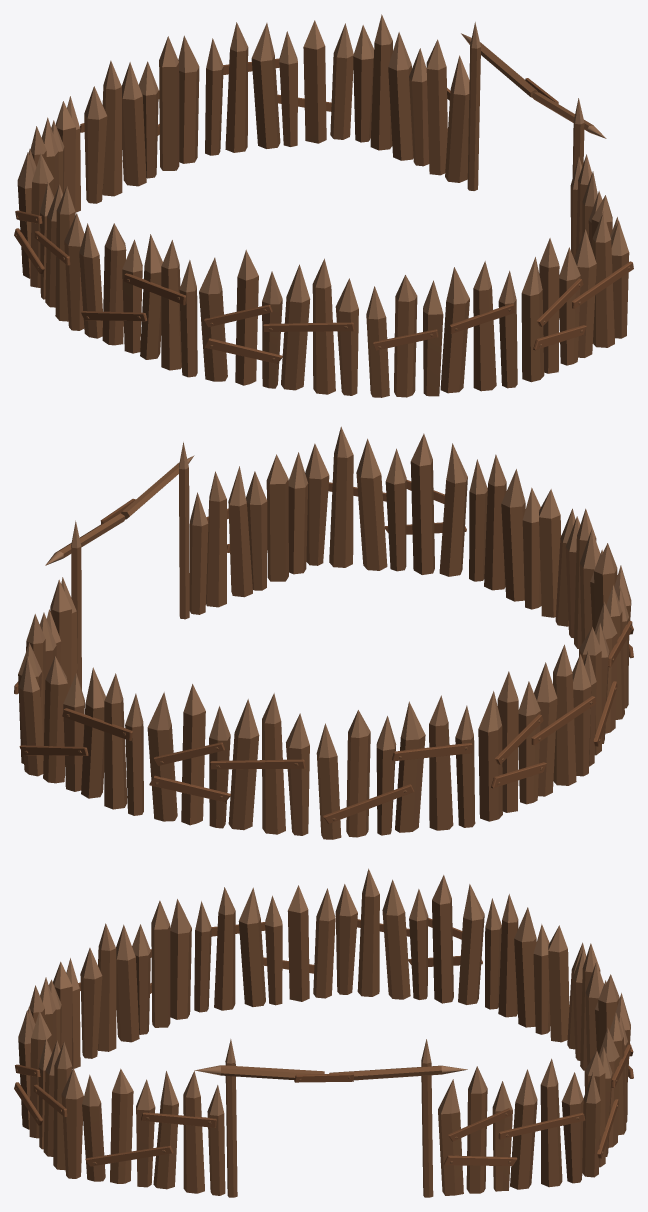
The model's file is Wall.fbx.
3 views of the same model, one above another, from view 1: azimuth 30°, elevation 25°; view 2: azimuth 150°, elevation 25°; view 3: azimuth 270°, elevation 25° (orthographic). The views are drawn at different scales.
Visible parts, largest first — view 1: Wall; view 2: Wall; view 3: Wall.
Boxes of the visible parts, x1,y1,x2,y2 form: Wall: (14, 14, 633, 397); Wall: (14, 426, 633, 839); Wall: (14, 868, 633, 1197).
Bounding box in the file's own units: 17.91 × 6.12 × 21.67.
